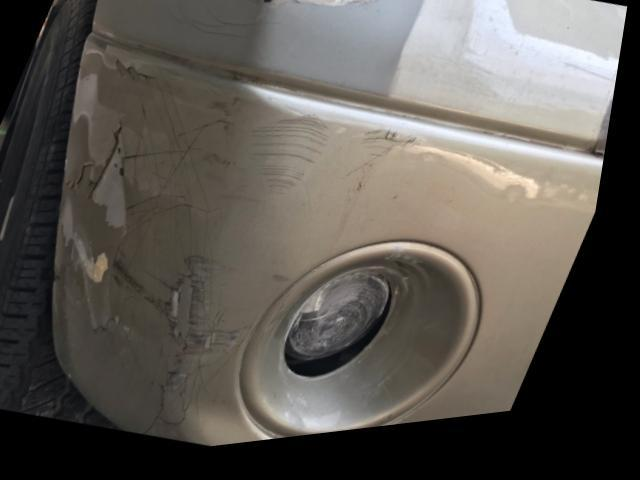dent: (181, 389, 265, 452)
dislocated part: (294, 283, 402, 385)
scratch: (66, 64, 431, 433), (155, 0, 391, 39)
